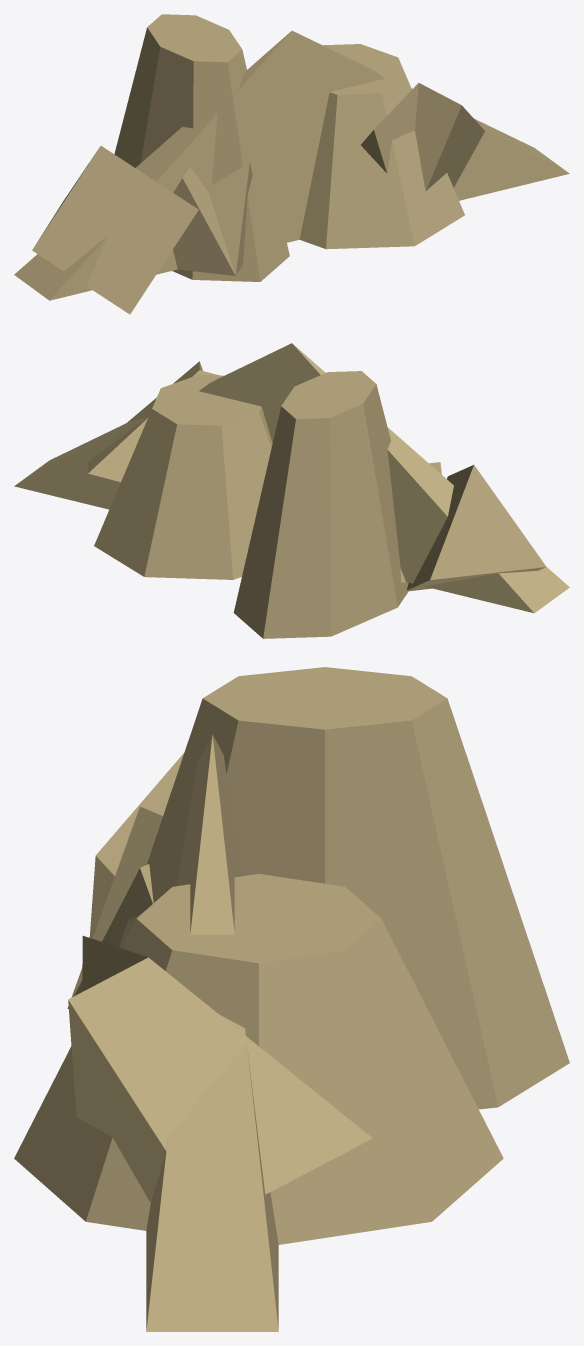
File: mountain.fbx
3 renders of one model, top to bottom at view 1: azimuth 30°, elevation 25°; view 2: azimuth 150°, elevation 25°; view 3: azimuth 270°, elevation 25°, orthographic. The views are drawn at different scales.
Visible parts, largest first — view 1: mergedBlocks; view 2: mergedBlocks; view 3: mergedBlocks.
Part boxes in pixels (x1=…): mergedBlocks: x1=14, y1=14, x2=569, y2=314; mergedBlocks: x1=14, y1=343, x2=569, y2=638; mergedBlocks: x1=14, y1=667, x2=569, y2=1331.
Size of the model in its own units: 84.6 by 32.98 by 42.
